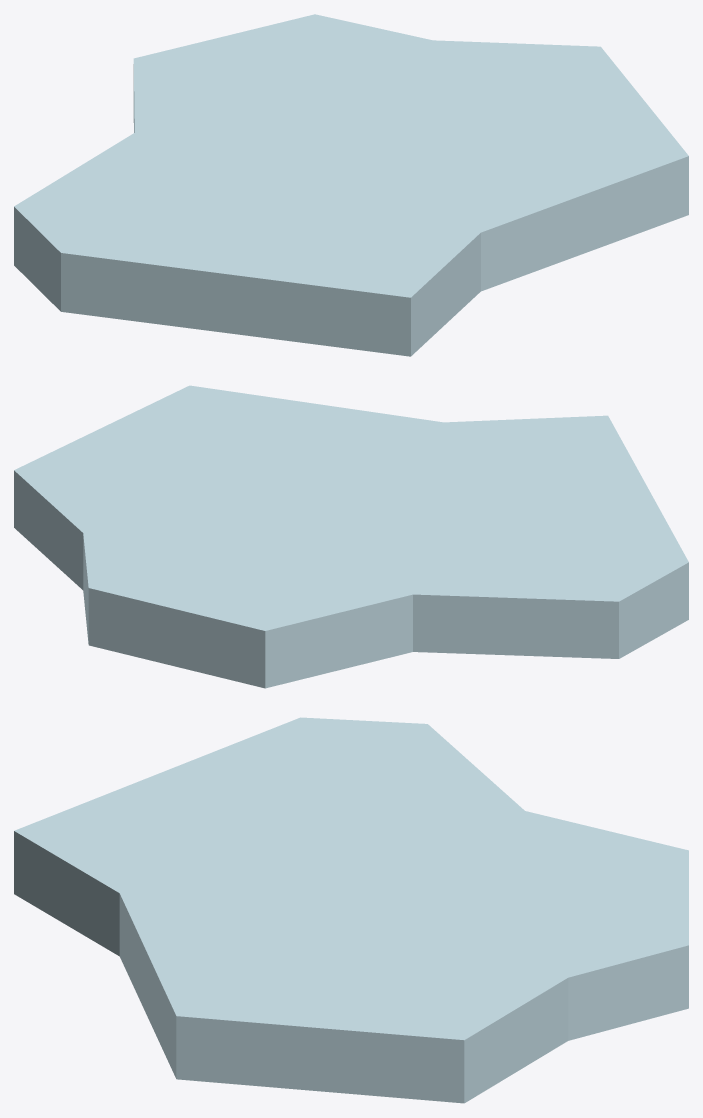
The model's file is SM_Env_Ice_02.gltf.
3 views of the same model, one above another, from view 1: azimuth 30°, elevation 25°; view 2: azimuth 150°, elevation 25°; view 3: azimuth 270°, elevation 25° (orthographic). The views are drawn at different scales.
Parts seen in each view (by area): view 1: SM_Env_Ice_02; view 2: SM_Env_Ice_02; view 3: SM_Env_Ice_02.
Boxes of the visible parts, x1,y1,x2,y2 form: SM_Env_Ice_02: (14, 14, 688, 356); SM_Env_Ice_02: (14, 385, 688, 688); SM_Env_Ice_02: (14, 717, 688, 1103).
Size of the model in its own units: 1.94 by 0.1777 by 1.72.
Materials: 1 (1 with a texture image).
